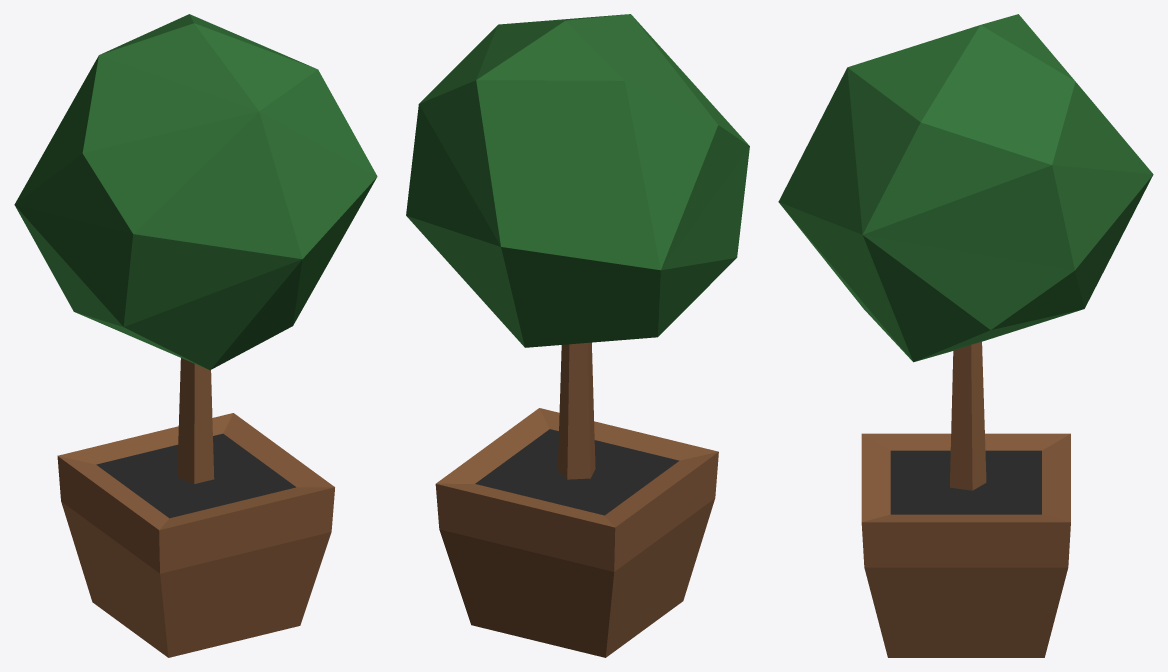
File: nature_tree-pot.fbx
3 views of the same model, side by side, from view 1: azimuth 30°, elevation 25°; view 2: azimuth 150°, elevation 25°; view 3: azimuth 270°, elevation 25° (orthographic). The views are drawn at different scales.
Parts seen in each view (by area): view 1: nature_tree_pot; view 2: nature_tree_pot; view 3: nature_tree_pot.
Part boxes in pixels (<box>): nature_tree_pot: <box>14,14,377,657</box>; nature_tree_pot: <box>406,14,749,657</box>; nature_tree_pot: <box>778,14,1153,657</box>.
Size of the model in its own units: 94.08 by 200 by 113.
